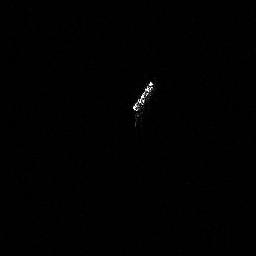ship: (130, 79, 157, 113)
